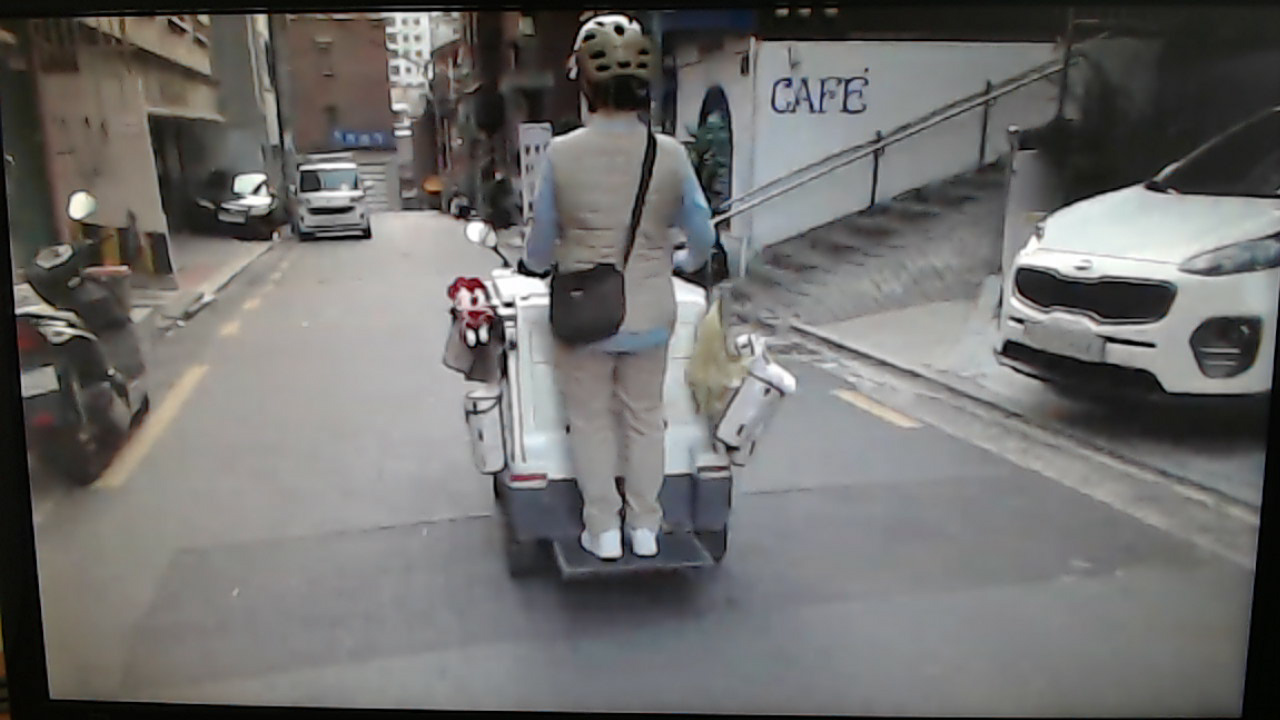Yakurut: (496, 16, 770, 575)
